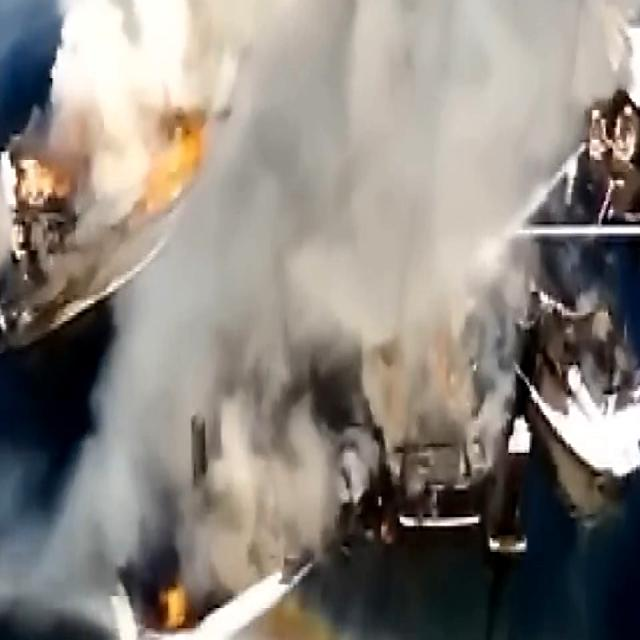smoke: (99, 0, 373, 181)
